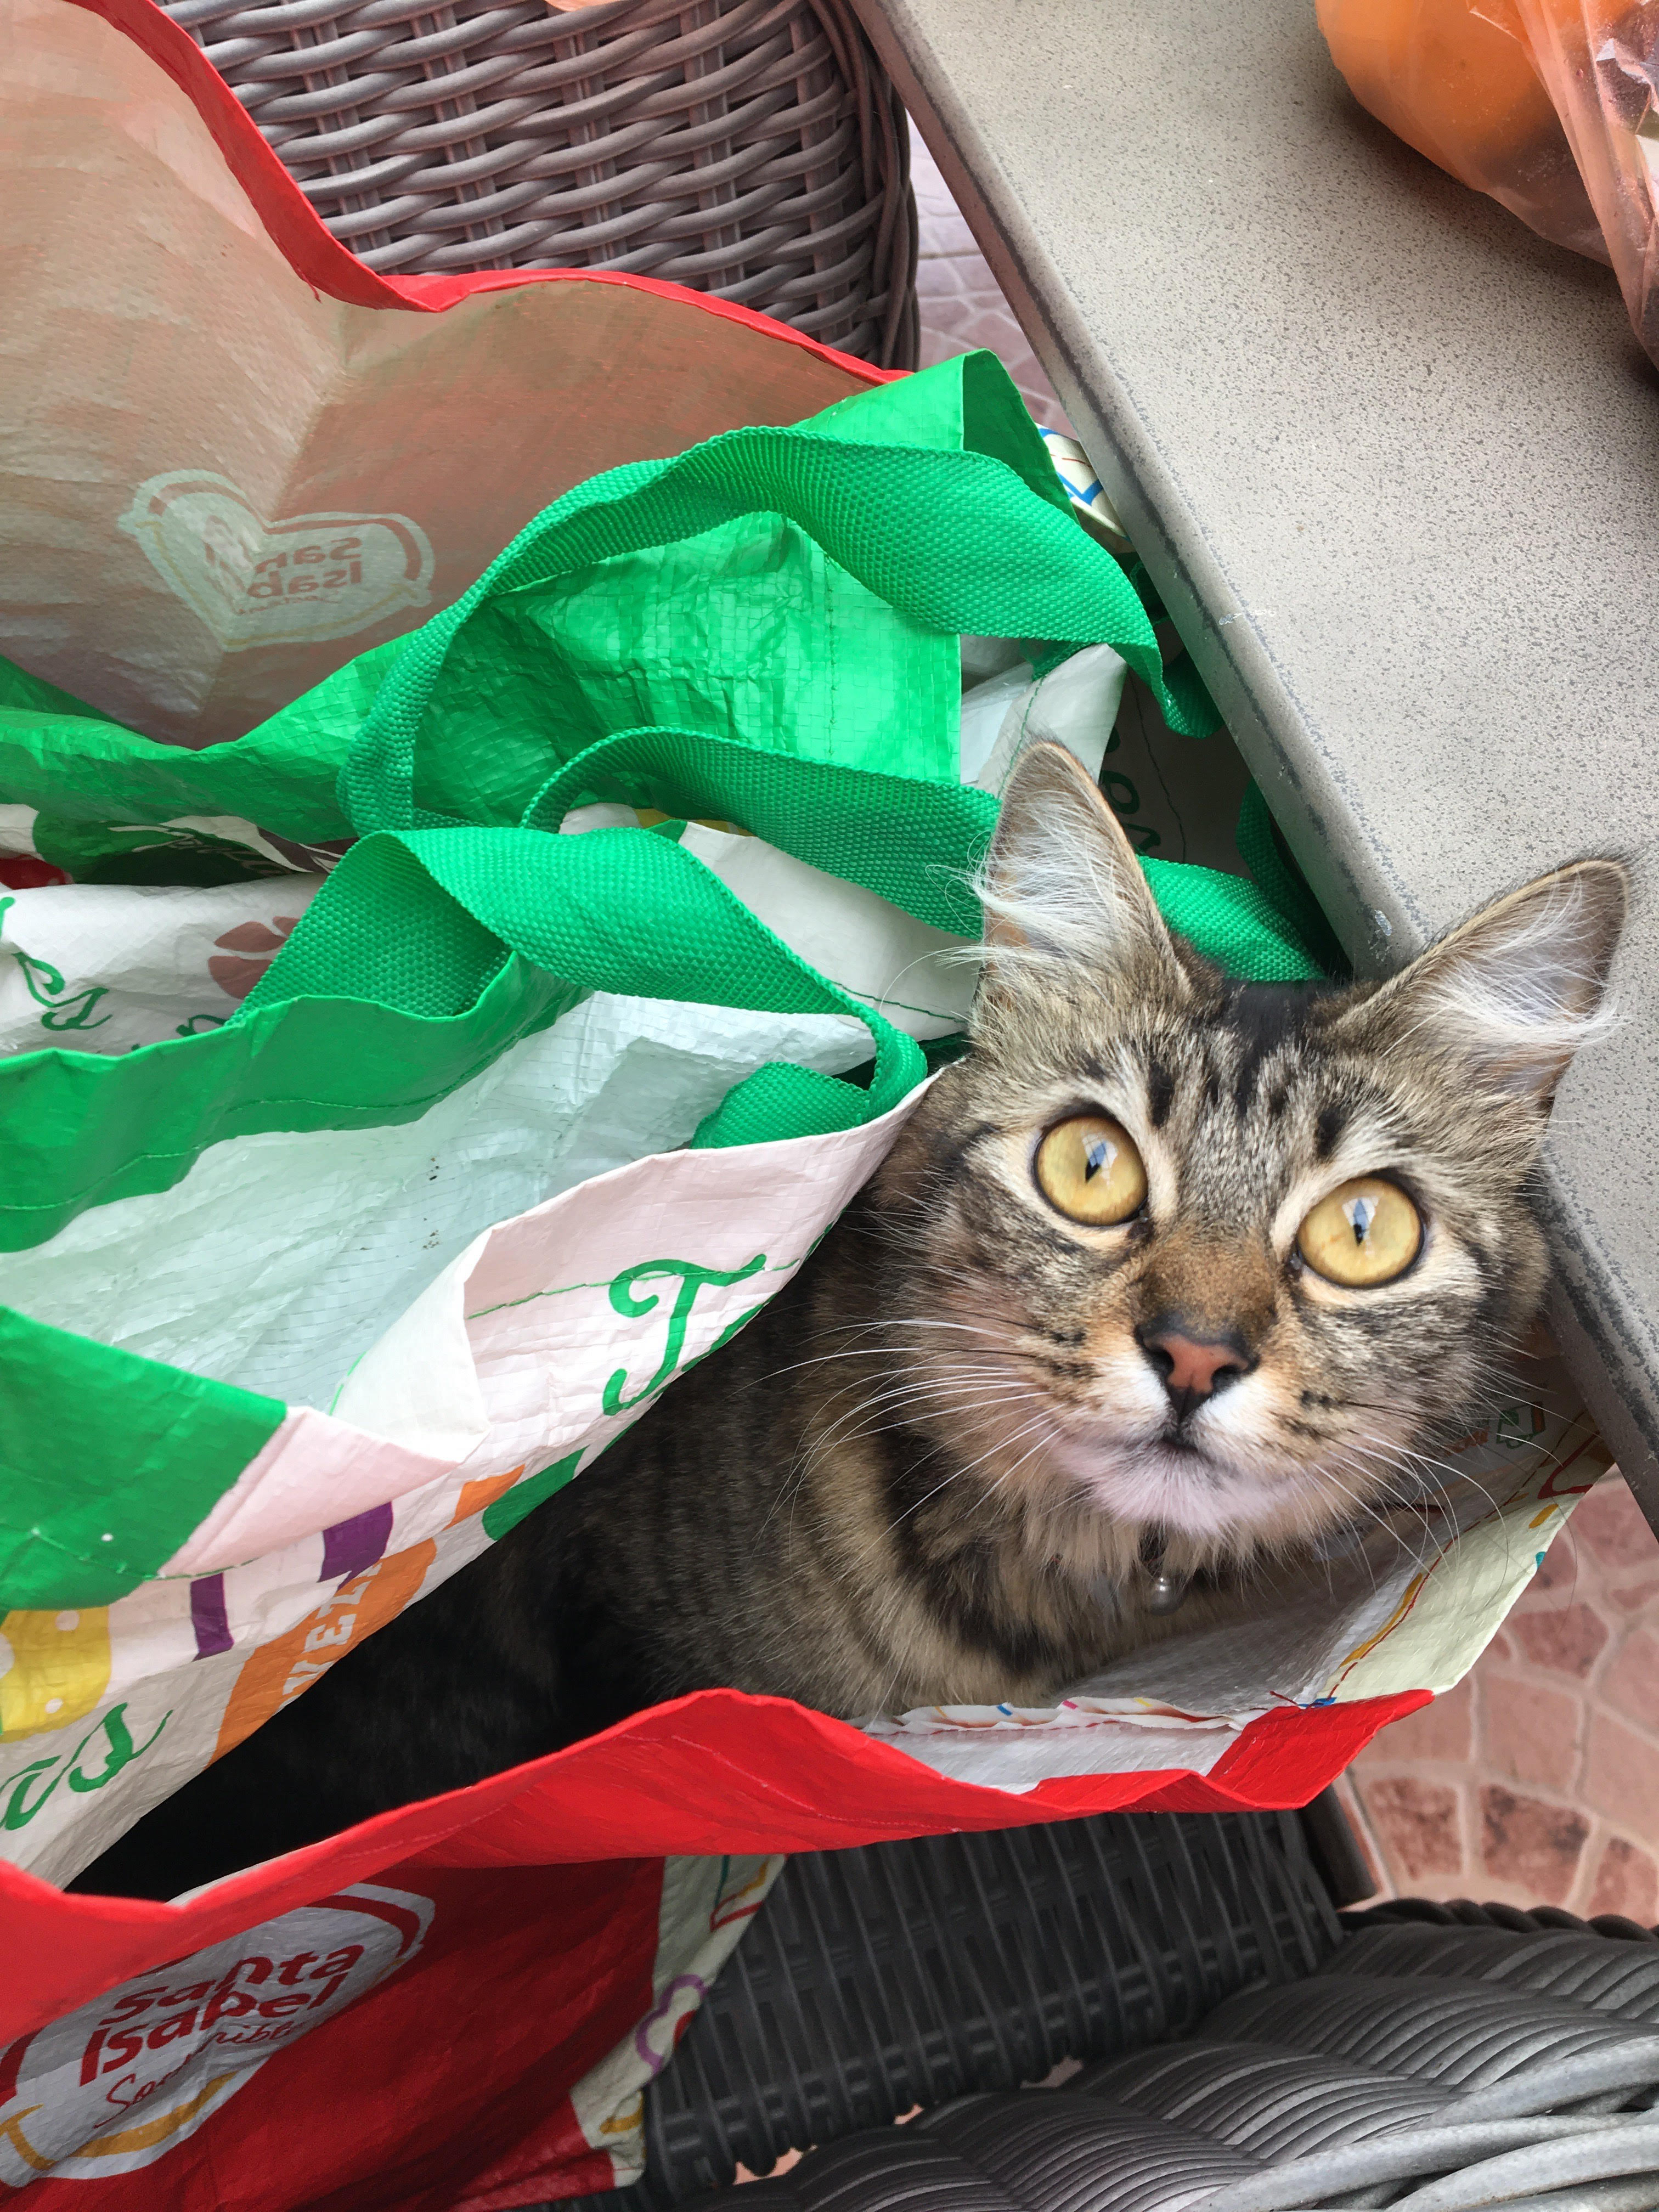pepa: (246, 738, 1640, 1791)
